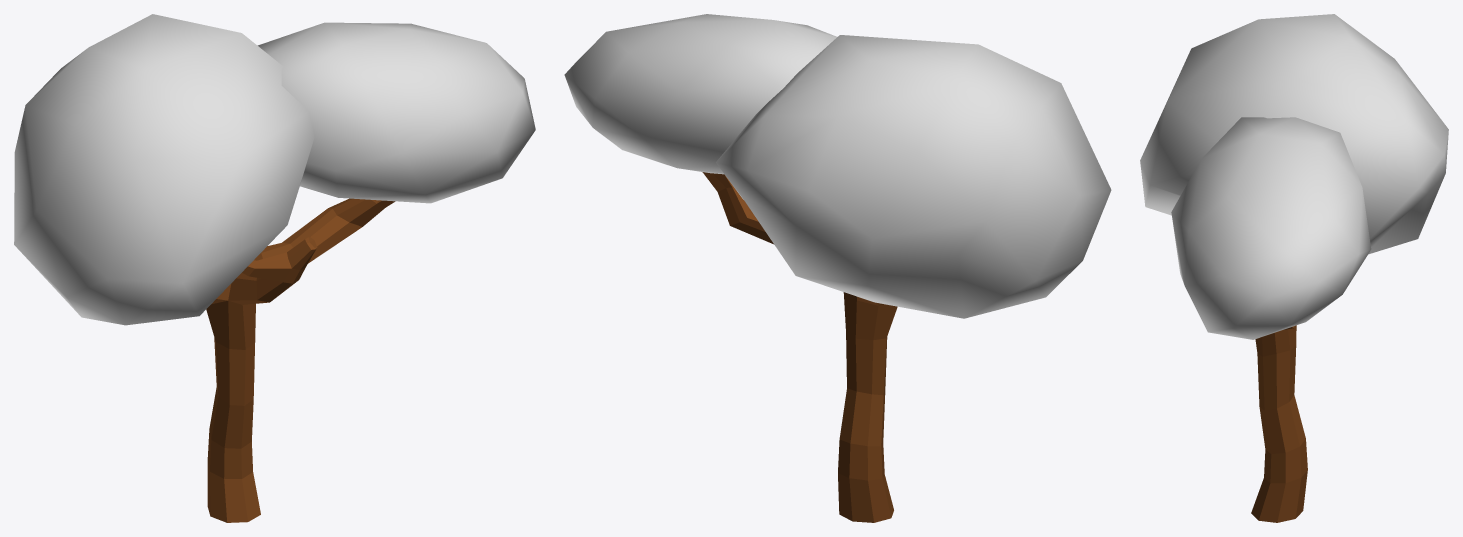
The model's file is tree2.fbx.
3 renders of one model, left to right at view 1: azimuth 30°, elevation 25°; view 2: azimuth 150°, elevation 25°; view 3: azimuth 270°, elevation 25°, orthographic. The views are drawn at different scales.
Parts seen in each view (by area): view 1: Cylinder; view 2: Cylinder; view 3: Cylinder.
Part boxes in pixels (x1=…): Cylinder: x1=14, y1=14, x2=535, y2=522; Cylinder: x1=564, y1=14, x2=1111, y2=522; Cylinder: x1=1140, y1=14, x2=1448, y2=522.
Bounding box in the file's own units: 744 × 698 × 430.
